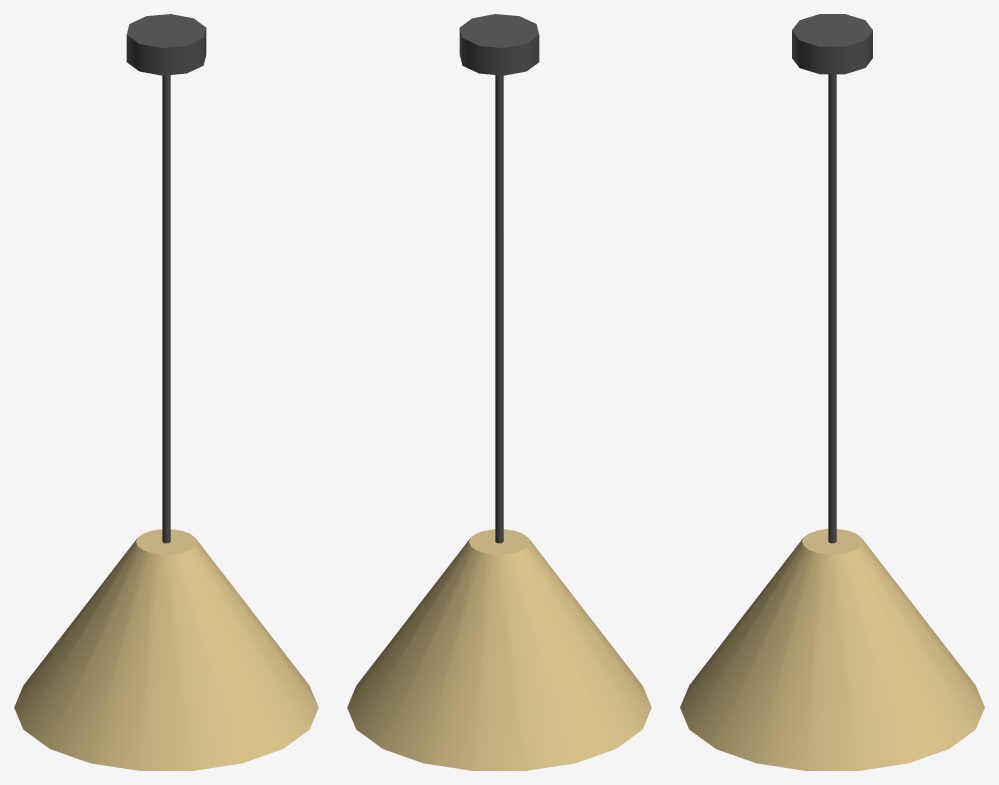
The model's file is PendantLight.glb.
3 views of the same model, side by side, from view 1: azimuth 30°, elevation 25°; view 2: azimuth 150°, elevation 25°; view 3: azimuth 270°, elevation 25° (orthographic).
Parts seen in each view (by area): view 1: PendantLight; view 2: PendantLight; view 3: PendantLight.
Boxes of the visible parts, x1,y1,x2,y2 form: PendantLight: (14,14,318,770); PendantLight: (347,14,651,770); PendantLight: (680,14,984,770).
Bounding box in the file's own units: 0.2954 × 0.735 × 0.3.
